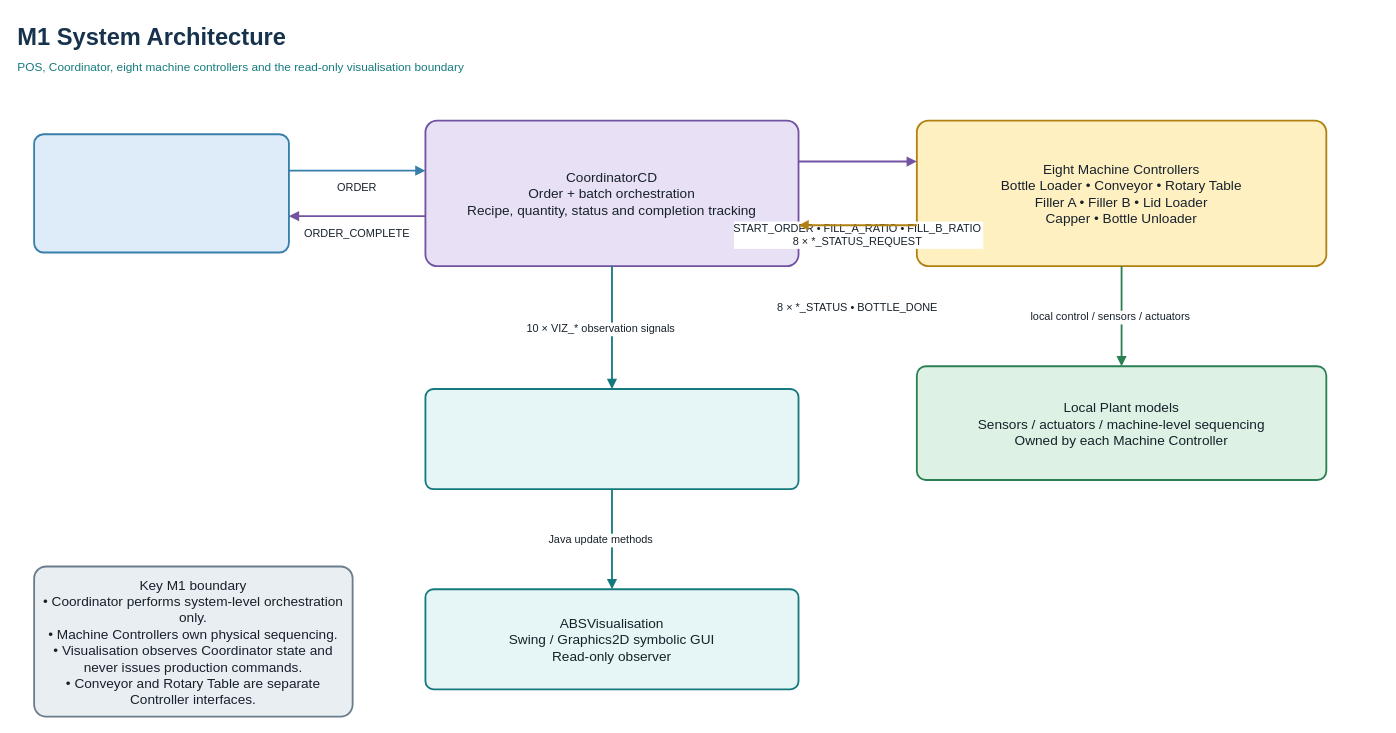
This 1396x733 diagram has some shape labels left out. The centre of each missing label's shape, as x and y in pixels:
"ABSVisualisationPlantCD Receives ten Integer VIZ_* signals" goes at pixel 611 439.
"POSCD Customer-facing order boundary ORDER / ORDER_COMPLETE" goes at pixel 161 193.
